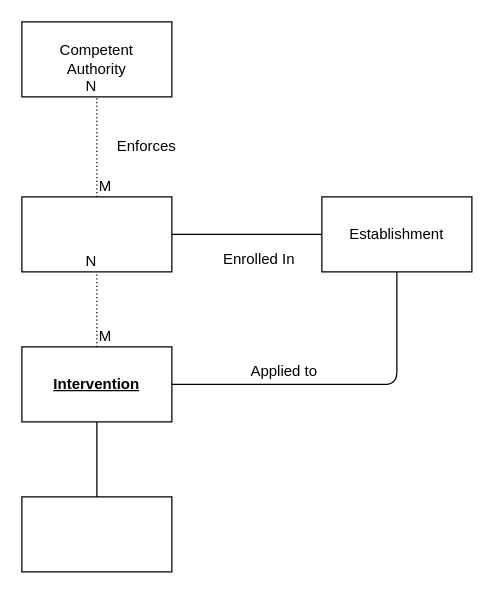
Some shapes in this 494 by 594 pixel diagram are drawn without their labels. The shapes that lost their labels are listed below. From the top down, each one's centre as x and y in pixels, then its label:
pixel 96 234: Scheme
pixel 96 534: Intervention Type
